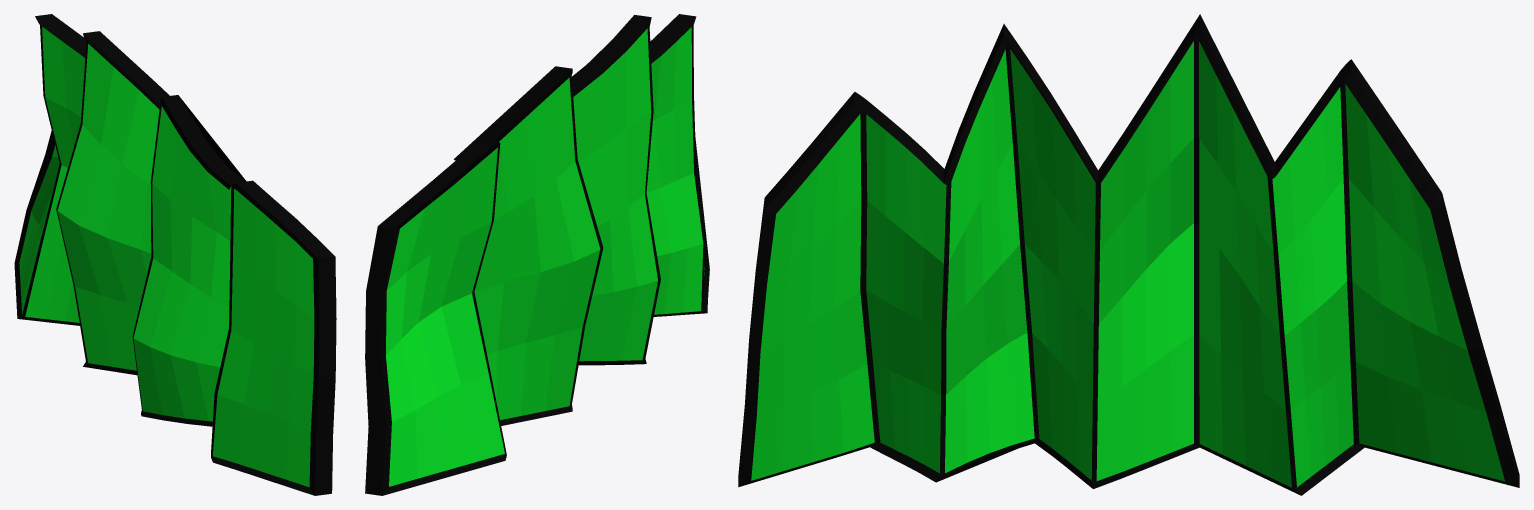
Rendered from PaperGrass01.fbx.
The picture shows the model from 3 angles, left to right: view 1: azimuth 30°, elevation 25°; view 2: azimuth 150°, elevation 25°; view 3: azimuth 270°, elevation 25°; orthographic projection. The views are drawn at different scales.
Parts seen in each view (by area): view 1: Plane.016; view 2: Plane.016; view 3: Plane.016.
Part boxes in pixels (x1,y1,x2,y2): Plane.016: [14, 14, 336, 495]; Plane.016: [365, 14, 709, 495]; Plane.016: [738, 14, 1519, 495].
Bounding box in the file's own units: 77.78 × 201 × 330.
